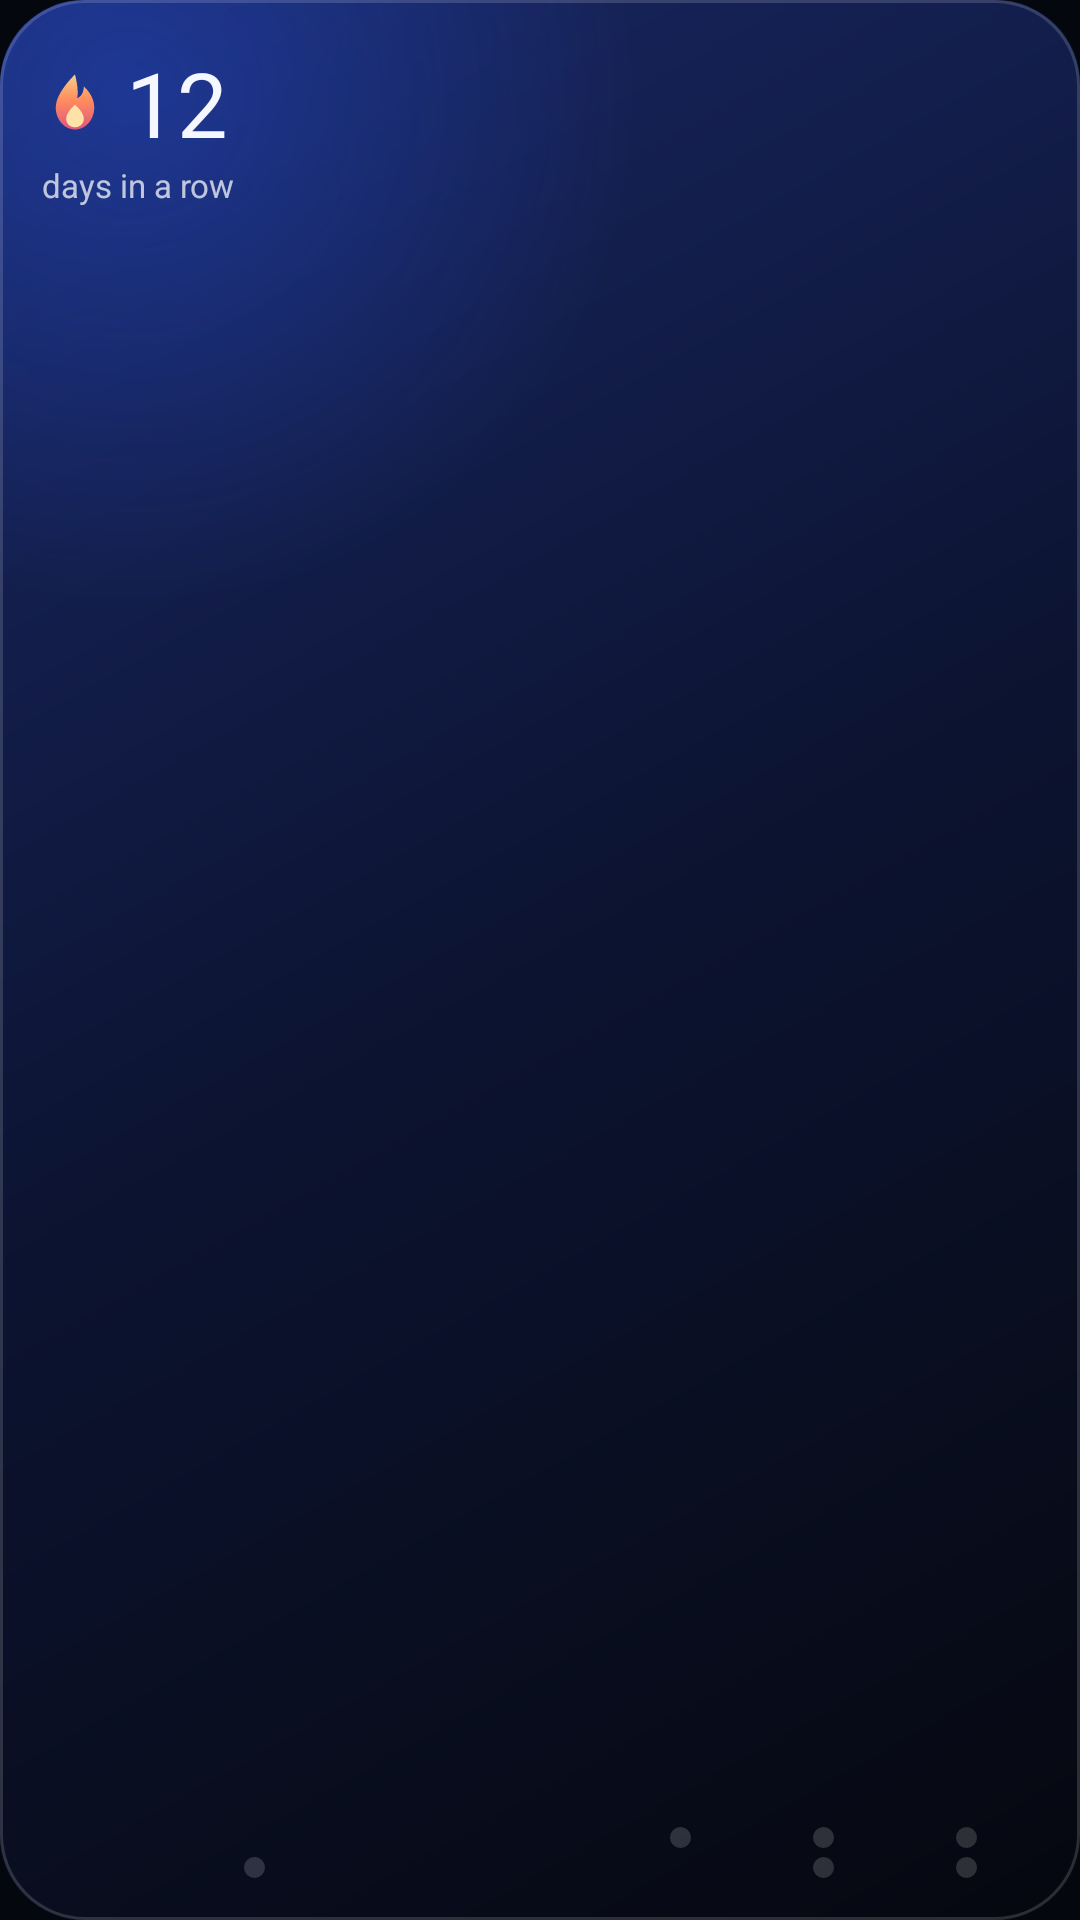

Locate icon controls on the screen. Image size 1080×1920, boxes as (x1, y1, x2, y2).
widget flame: (55, 74, 95, 130)
